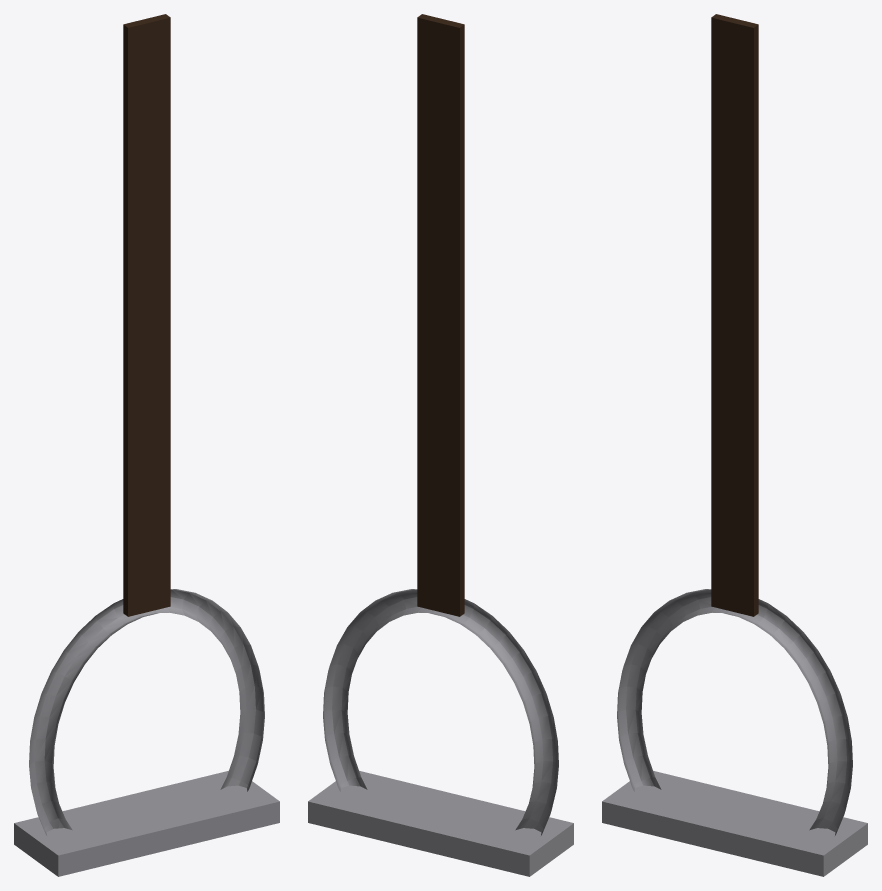
Rendered from Estribo_02.glb.
The picture shows the model from 3 angles, left to right: view 1: azimuth 30°, elevation 25°; view 2: azimuth 150°, elevation 25°; view 3: azimuth 330°, elevation 25°; orthographic projection.
Parts seen in each view (by area): view 1: Estribo_Correa, Estribo_Metal; view 2: Estribo_Correa, Estribo_Metal; view 3: Estribo_Correa, Estribo_Metal.
Boxes of the visible parts, bbox=[...] form: Estribo_Correa: bbox=[123, 14, 170, 616]; Estribo_Metal: bbox=[14, 589, 279, 876]; Estribo_Correa: bbox=[417, 14, 464, 616]; Estribo_Metal: bbox=[308, 589, 573, 876]; Estribo_Correa: bbox=[711, 14, 758, 616]; Estribo_Metal: bbox=[602, 589, 867, 876].
Size of the model in its own units: 0.137 by 0.4554 by 0.045.
